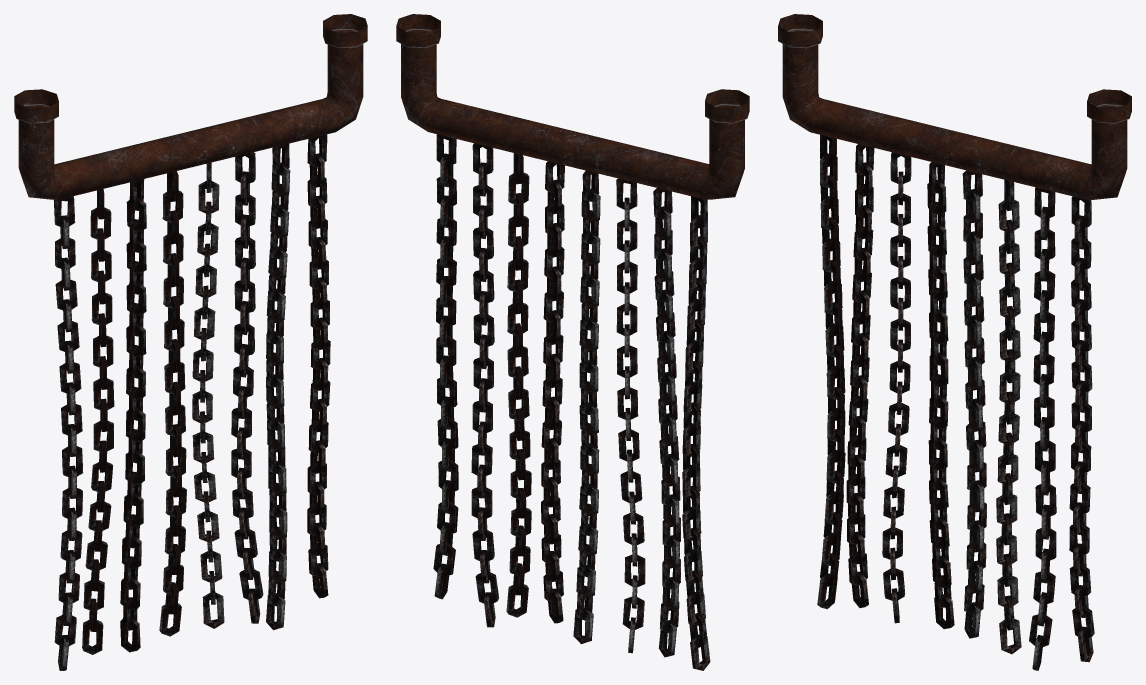
Rendered from WallChains.glb.
3 views of the same model, side by side, from view 1: azimuth 30°, elevation 25°; view 2: azimuth 150°, elevation 25°; view 3: azimuth 330°, elevation 25° (orthographic).
Visible parts, largest first — view 1: Chains_Main_0; view 2: Chains_Main_0; view 3: Chains_Main_0.
Boxes of the visible parts, box(x1,y1,x2,y2) form: Chains_Main_0: box(14, 14, 367, 670); Chains_Main_0: box(396, 14, 749, 670); Chains_Main_0: box(778, 14, 1131, 670).
Bounding box in the file's own units: 1.73 × 2.79 × 0.1997.
1 material, 1 textured.
